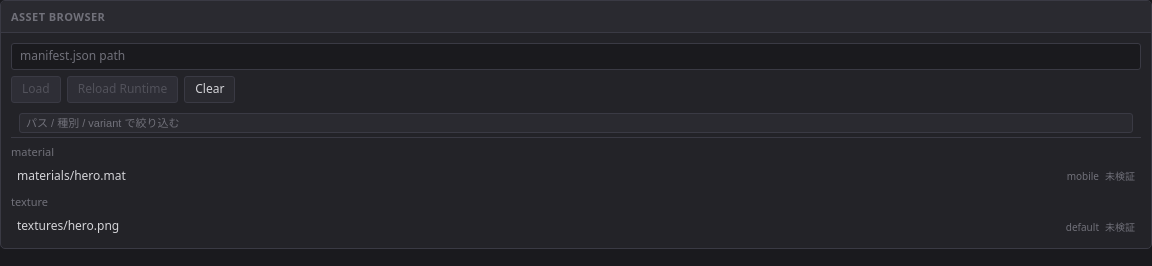
Scenario: AssetBrowserPanel — filter input › restores the full list when the query is cleared
Type "hero.png" into the search field named "アセットを絞り込む" at (576, 123), box [19,113,1133,133]
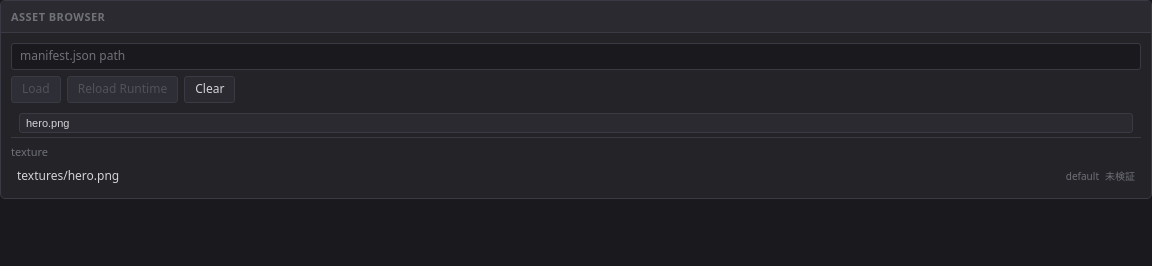
Clear the search field named "アセットを絞り込む" at (576, 123), box [19,113,1133,133]
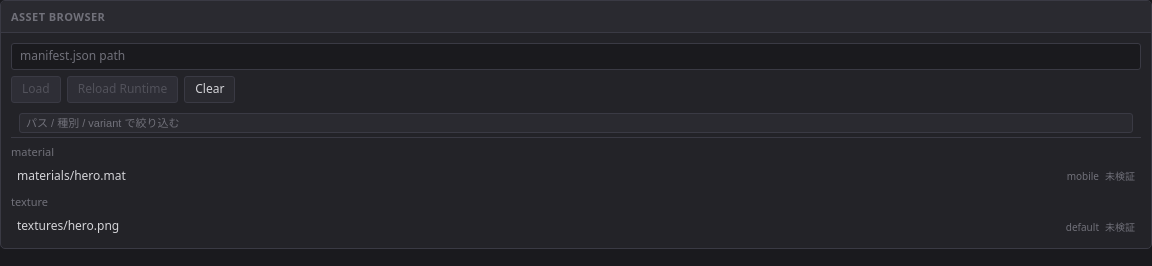
Check: the text "materials/hero.mat" is shown, box [17,167,126,184]
